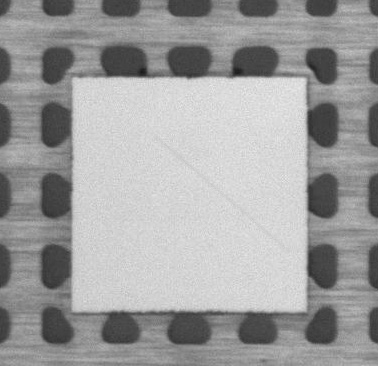DIE_CRACK: (160, 132, 300, 244)
